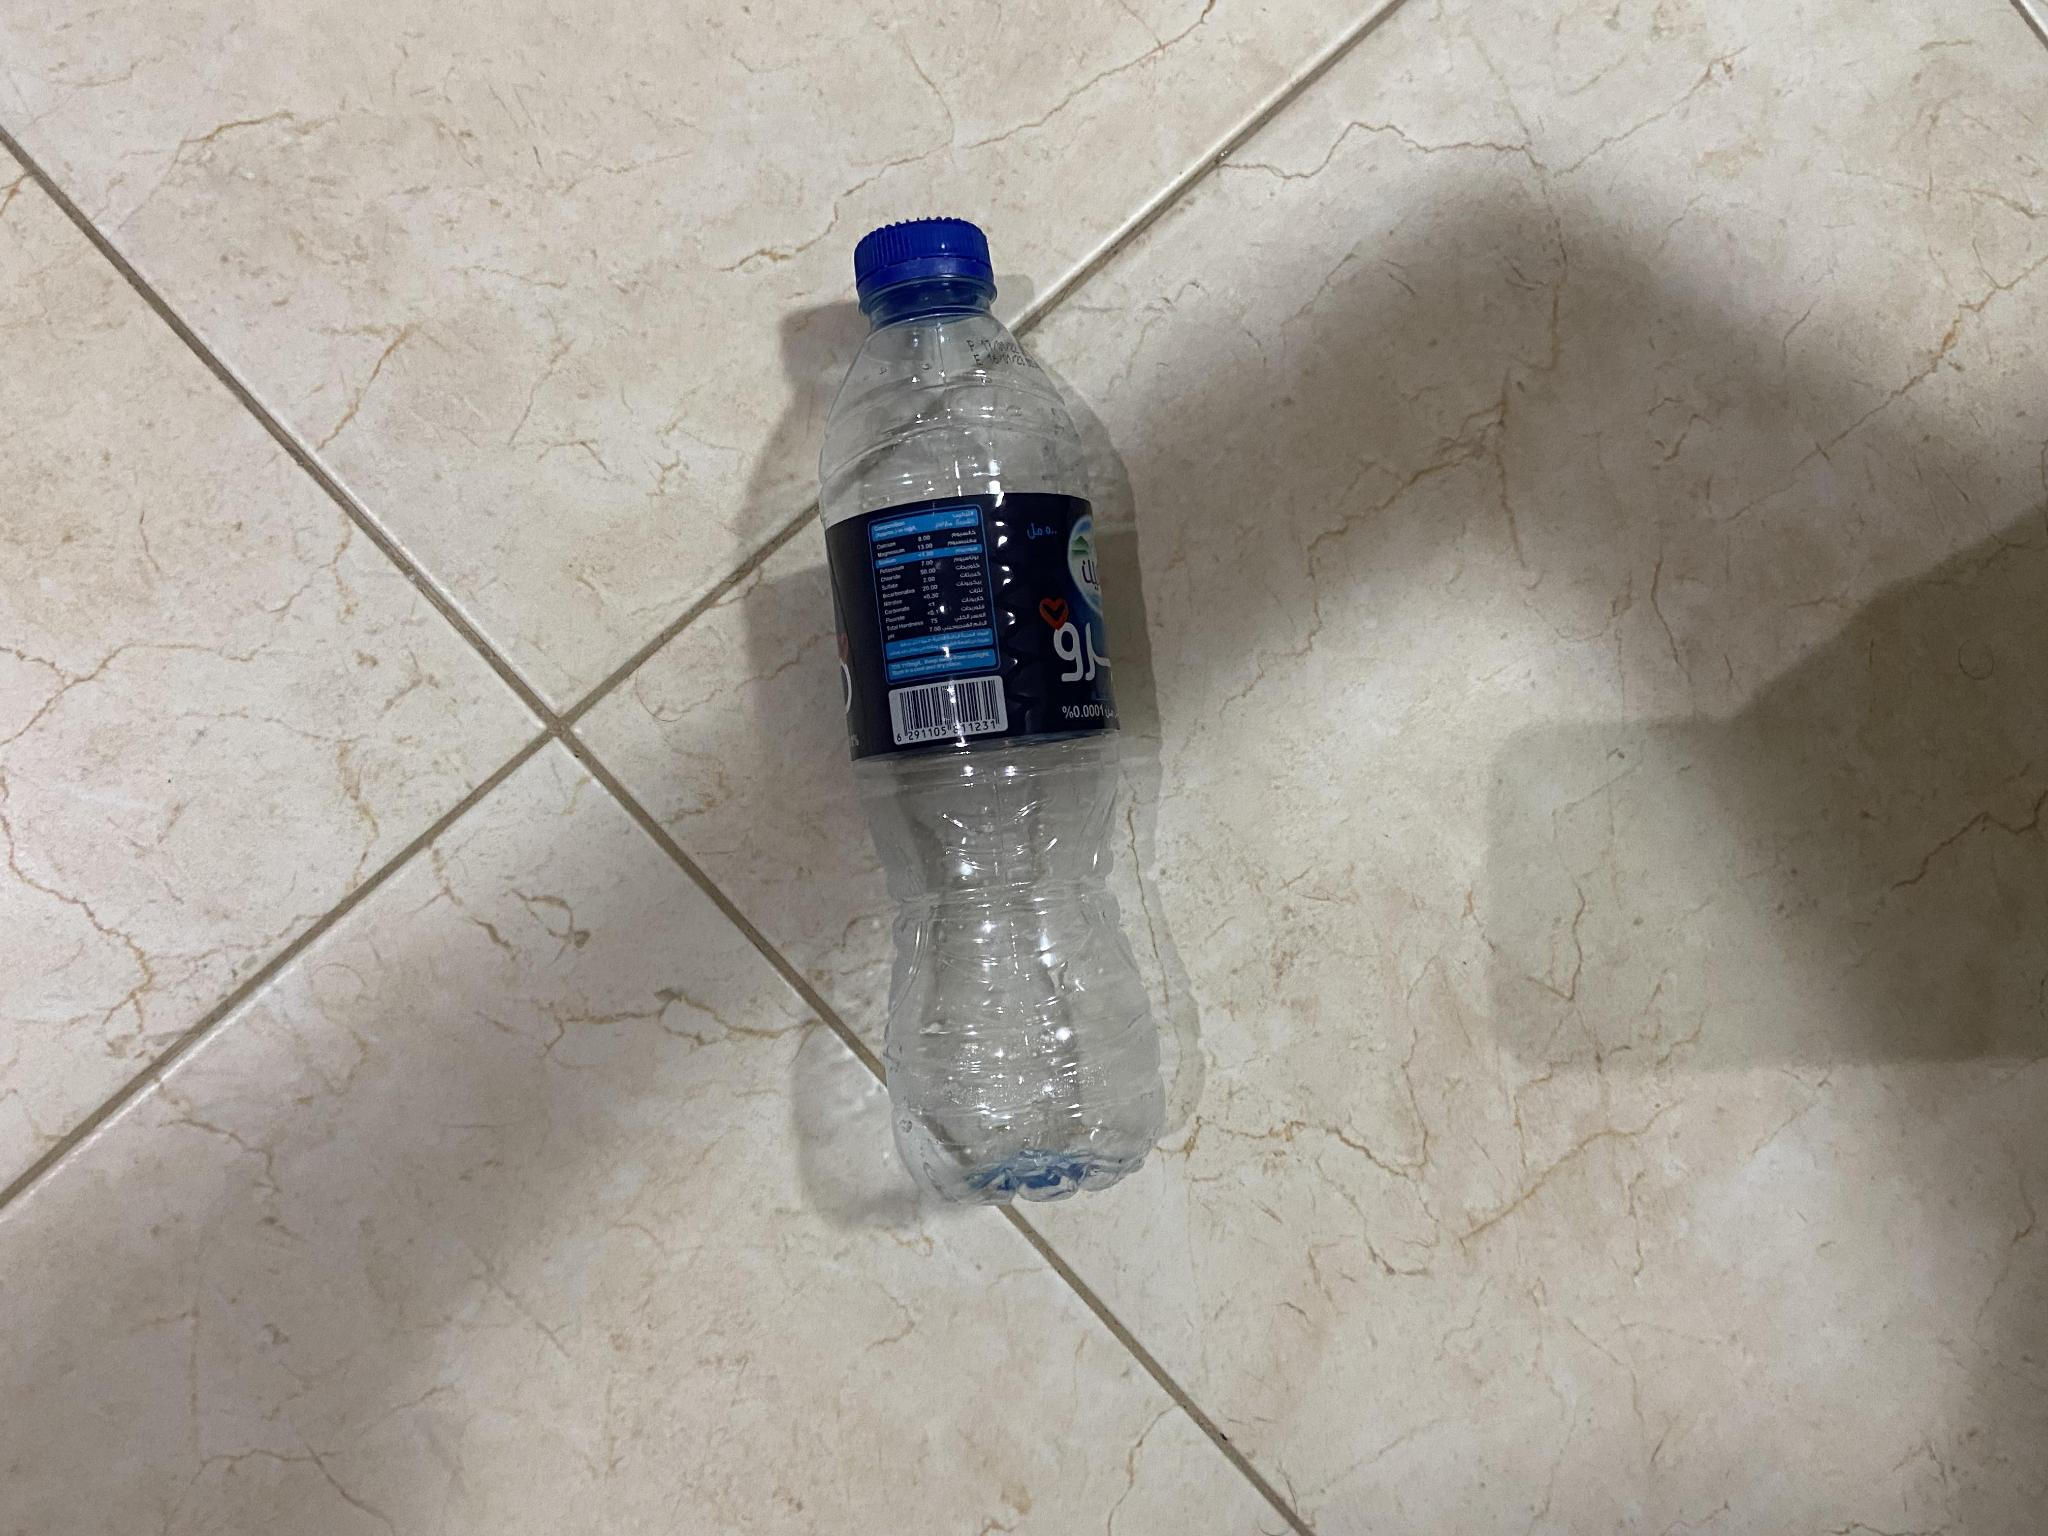bottle: (437, 603, 1777, 895)
